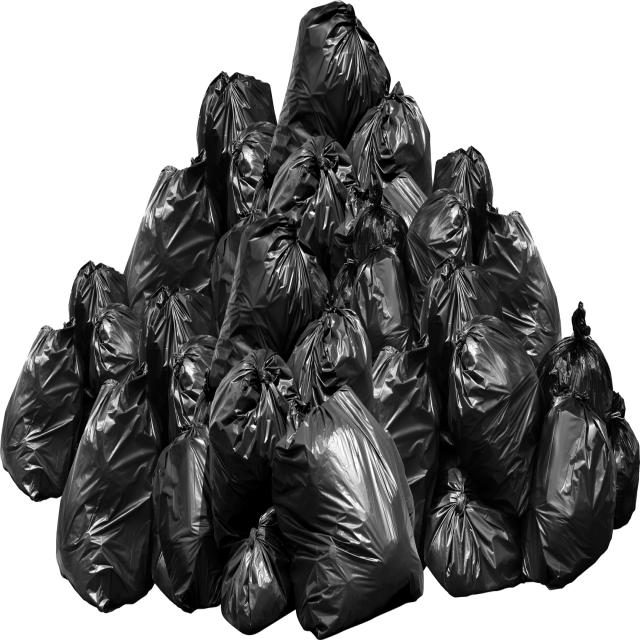Single-layer Plastic: (272, 386, 424, 638), (56, 364, 161, 611), (268, 2, 390, 175), (210, 213, 330, 386), (448, 316, 540, 518), (209, 350, 298, 558), (521, 393, 616, 587), (125, 151, 221, 319), (0, 319, 84, 501), (372, 338, 440, 561), (478, 204, 561, 367), (151, 422, 222, 611), (424, 467, 521, 597), (196, 72, 276, 229), (268, 137, 356, 278), (420, 256, 502, 407), (139, 285, 215, 442), (346, 81, 432, 197), (404, 189, 472, 331), (221, 508, 295, 635), (334, 242, 415, 358), (288, 307, 374, 415), (538, 302, 614, 423), (331, 182, 408, 279), (432, 146, 492, 259), (69, 261, 129, 366), (228, 122, 276, 230), (169, 336, 216, 443), (89, 304, 141, 395), (211, 216, 250, 330), (608, 393, 640, 529)
